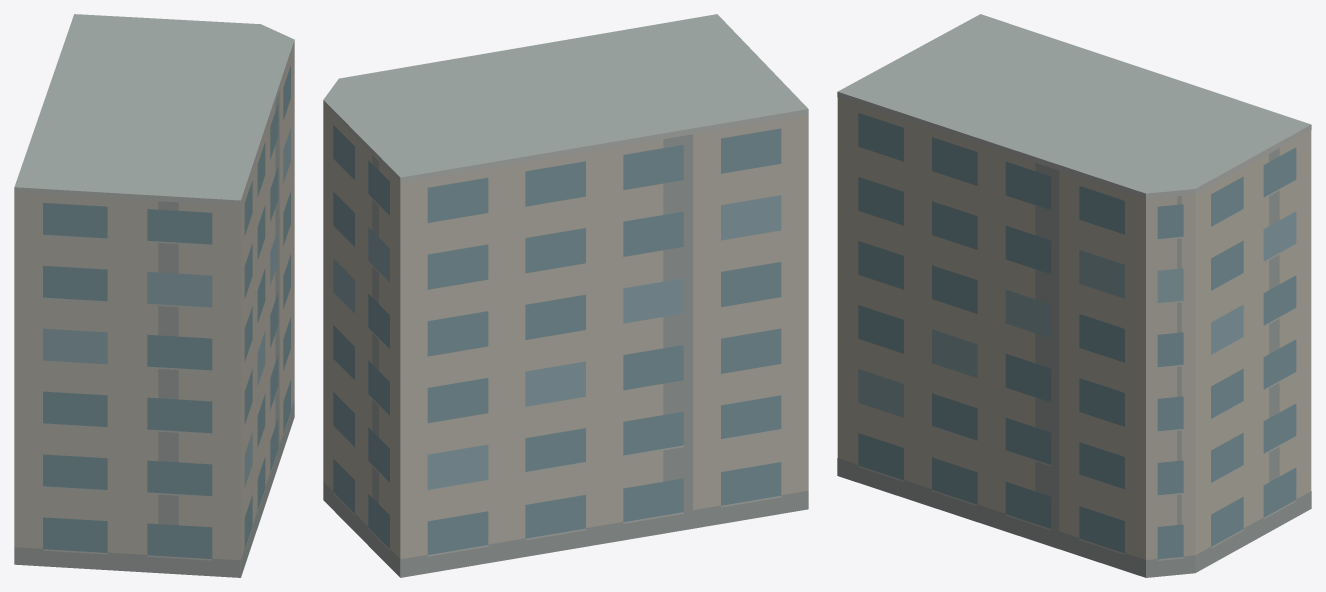
Rendered from survey-upis-32830461.glb.
3 renders of one model, left to right at view 1: azimuth 30°, elevation 25°; view 2: azimuth 150°, elevation 25°; view 3: azimuth 270°, elevation 25°, orthographic. The views are drawn at different scales.
Parts seen in each view (by area): view 1: survey-upis-32830461.tmp; view 2: survey-upis-32830461.tmp; view 3: survey-upis-32830461.tmp.
Boxes of the visible parts, x1,y1,x2,y2 form: survey-upis-32830461.tmp: (14,14,294,577); survey-upis-32830461.tmp: (323,14,808,577); survey-upis-32830461.tmp: (837,14,1311,577).
Bounding box in the file's own units: 16.65 × 16.6 × 18.56.
